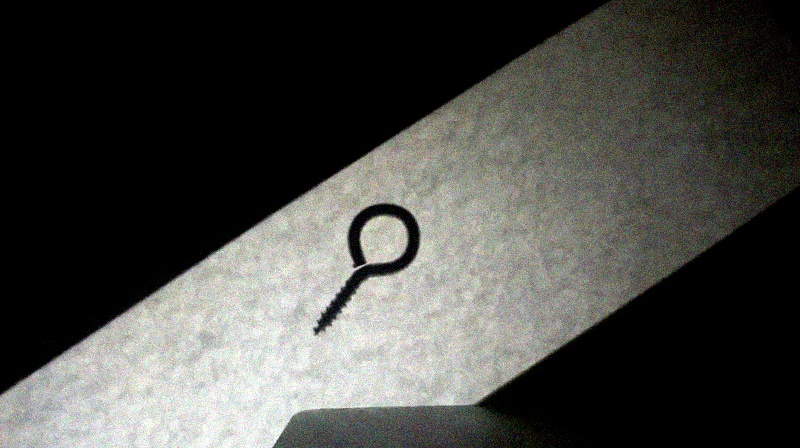O001: (310, 201, 424, 339)
